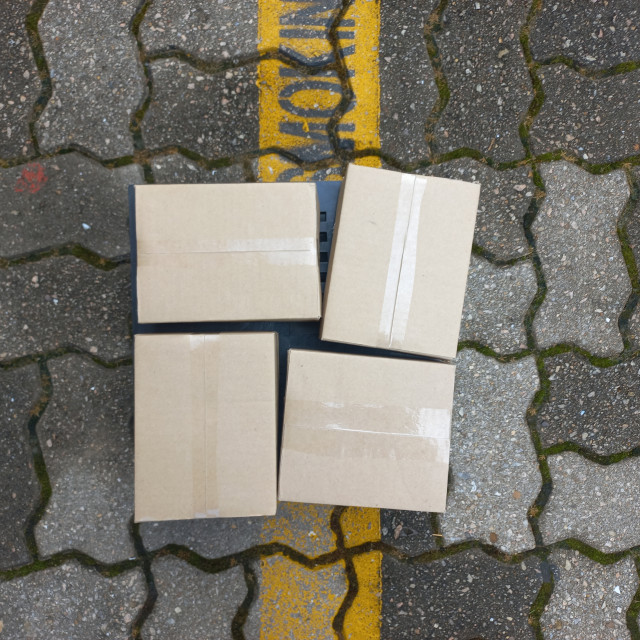box: (318, 160, 483, 362), (277, 348, 456, 515), (133, 329, 279, 525), (131, 181, 323, 327)
